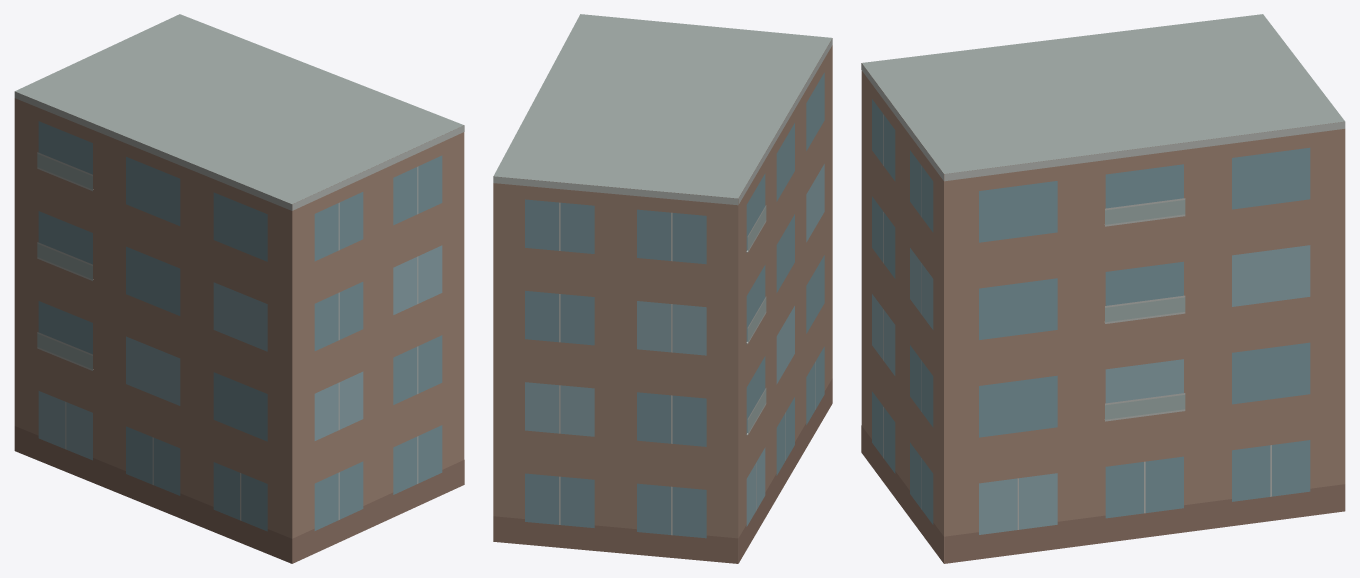
Rendered from survey-upis-32730938.glb.
3 views of the same model, side by side, from view 1: azimuth 30°, elevation 25°; view 2: azimuth 150°, elevation 25°; view 3: azimuth 270°, elevation 25° (orthographic). The views are drawn at different scales.
Visible parts, largest first — view 1: survey-upis-32730938.tmp; view 2: survey-upis-32730938.tmp; view 3: survey-upis-32730938.tmp.
Boxes of the visible parts, <box> form: survey-upis-32730938.tmp: <box>14,14,464,563</box>; survey-upis-32730938.tmp: <box>493,14,832,563</box>; survey-upis-32730938.tmp: <box>861,14,1345,563</box>.
Size of the model in its own units: 11.59 by 13.15 by 14.8.
